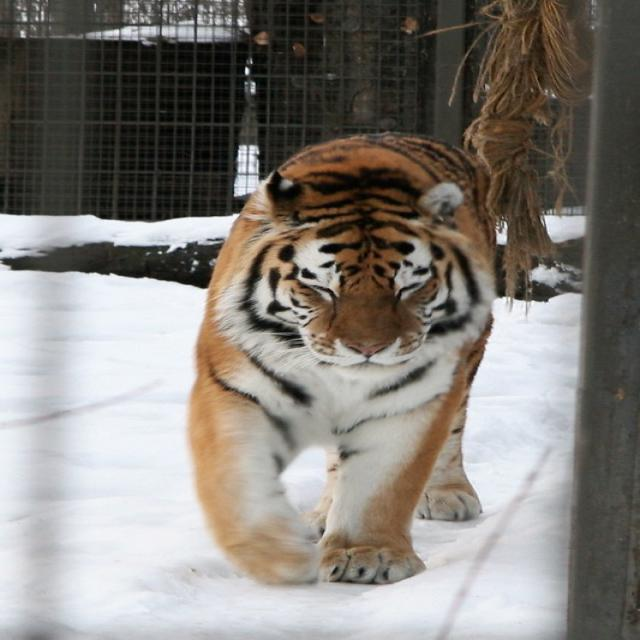Tiger: (182, 128, 498, 584)
